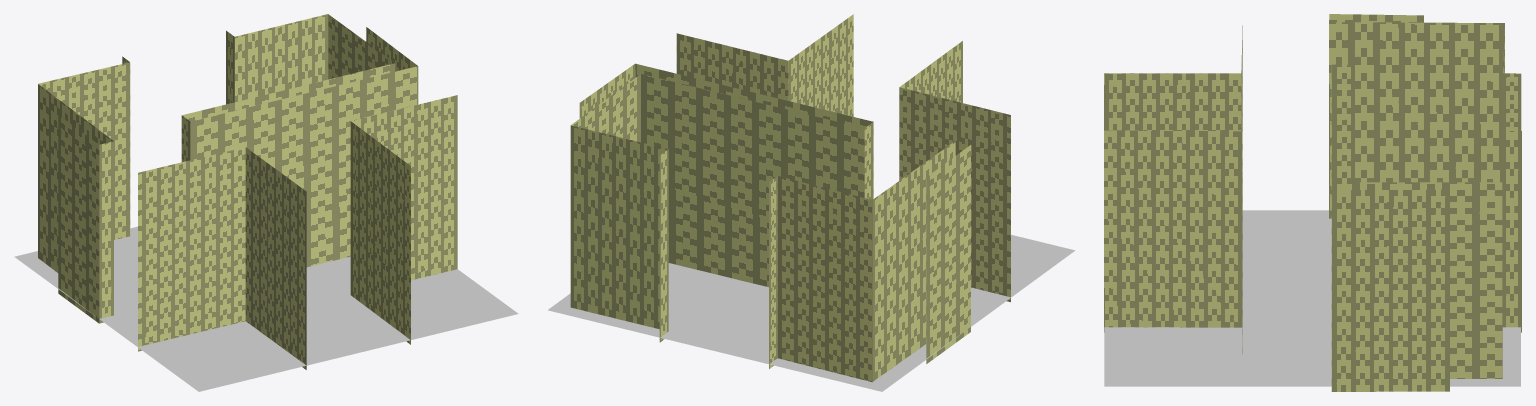
The model's file is room5.obj.
The picture shows the model from 3 angles, left to right: view 1: azimuth 30°, elevation 25°; view 2: azimuth 150°, elevation 25°; view 3: azimuth 270°, elevation 25°; orthographic projection. The views are drawn at different scales.
Visible parts, largest first — view 1: Cube.003_Cube.007, Cube_Cube.001, Plane, Cube.002_Cube.005, Cube.001_Cube.006; view 2: Cube_Cube.001, Cube.001_Cube.006, Cube.003_Cube.007, Plane, Cube.002_Cube.005; view 3: Cube_Cube.001, Cube.001_Cube.006, Cube.002_Cube.005, Plane, Cube.003_Cube.007.
Boxes of the visible parts, x1,y1,x2,y2 form: Cube.003_Cube.007: (138, 147, 306, 369); Cube_Cube.001: (181, 14, 418, 267); Plane: (14, 226, 518, 391); Cube.002_Cube.005: (350, 95, 457, 344); Cube.001_Cube.006: (38, 56, 130, 323); Cube_Cube.001: (570, 63, 873, 342); Cube.001_Cube.006: (769, 141, 970, 382); Cube.003_Cube.007: (899, 41, 1010, 302); Plane: (548, 234, 1075, 391); Cube.002_Cube.005: (676, 14, 853, 116); Cube_Cube.001: (1331, 64, 1521, 391); Cube.001_Cube.006: (1329, 14, 1521, 218); Cube.002_Cube.005: (1104, 130, 1242, 354); Plane: (1104, 210, 1520, 386); Cube.003_Cube.007: (1104, 25, 1242, 131).
Bounding box in the file's own units: 12.03 × 6.47 × 12.03.
Materials: 5 (4 with a texture image).
